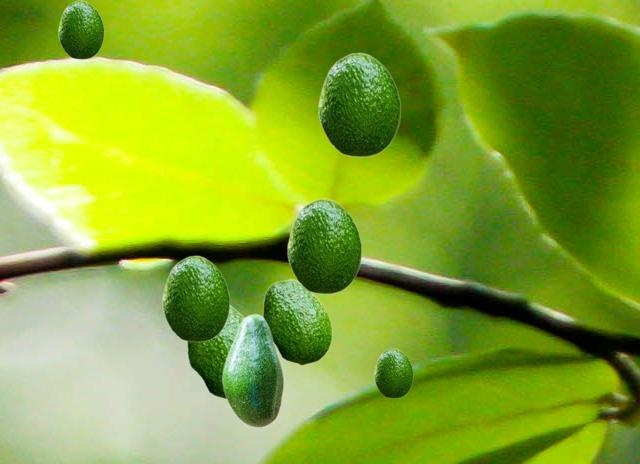avocado: (318, 52, 400, 156), (221, 313, 283, 427), (287, 198, 361, 293), (262, 278, 331, 364), (162, 255, 229, 341), (186, 304, 244, 399), (58, 0, 103, 58), (374, 348, 412, 397)
